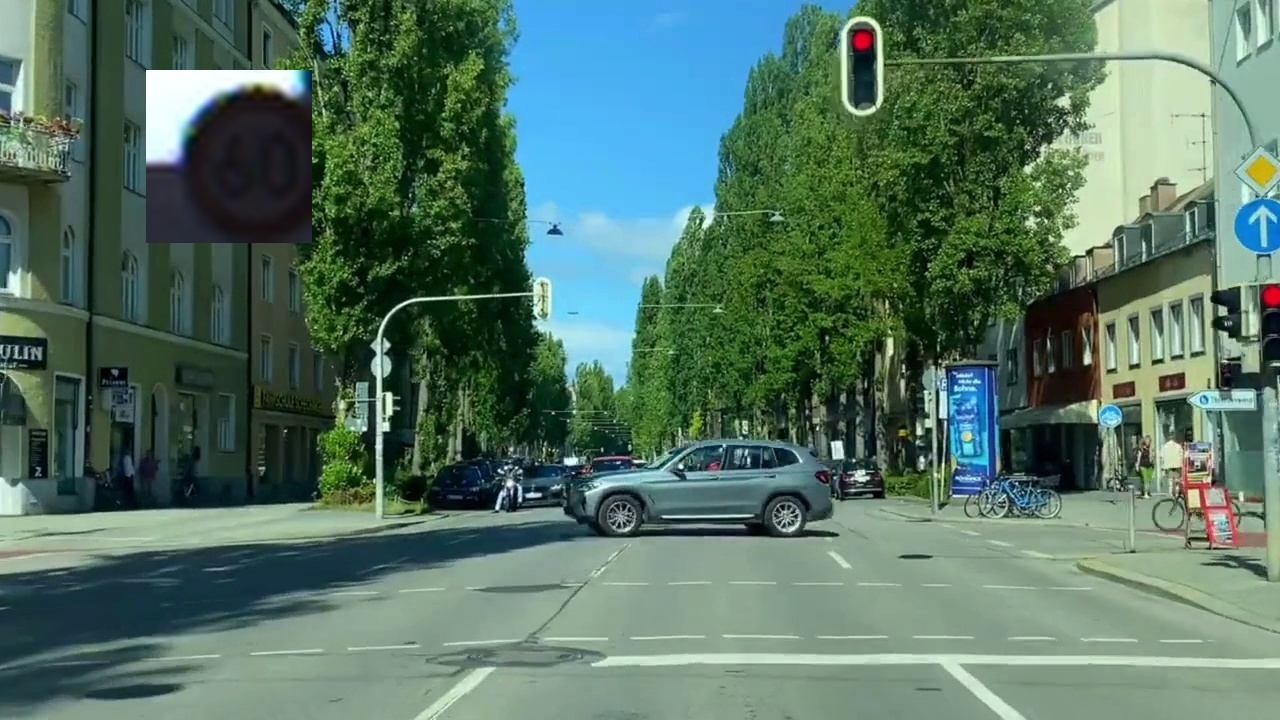Speed 60: (146, 70, 312, 243)
